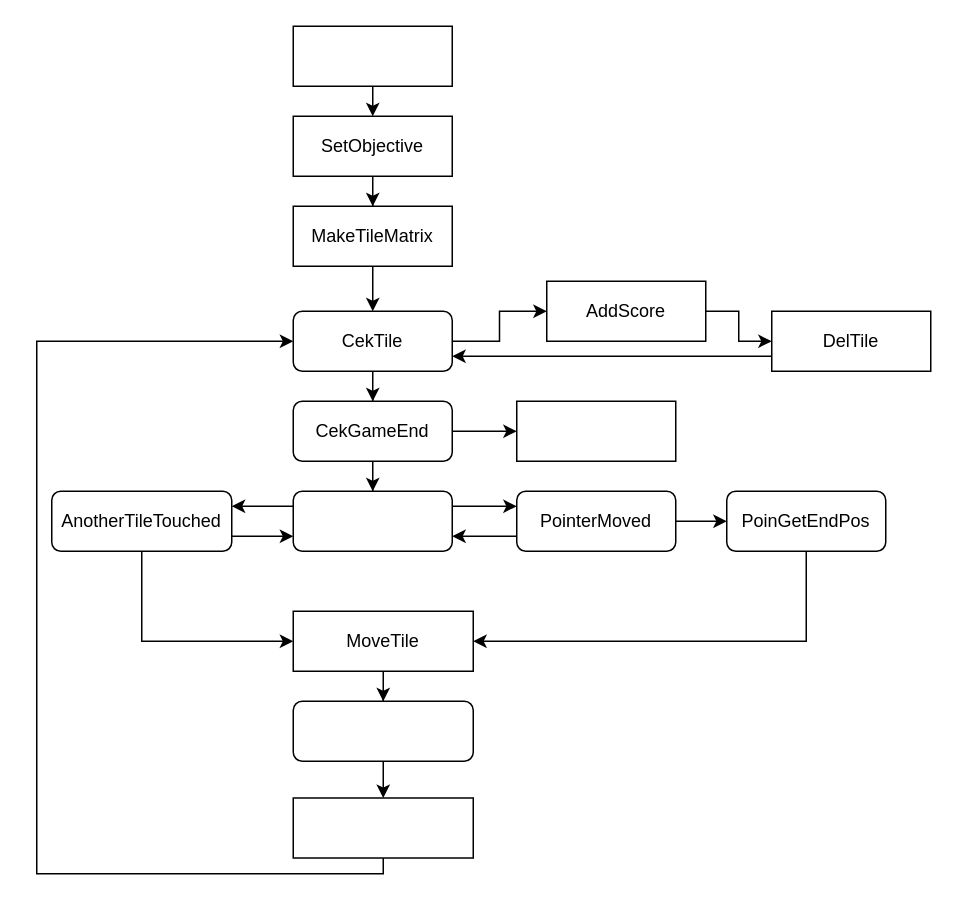
Some shapes in this 957 by 912 pixel diagram are drawn without their labels. The centre of each missing label's shape, as x and y in pixels:
GameStart: (372,55)
GetPointerTouch: (372,520)
ShowWinPanel: (595,430)
SwapTile: (382,827)
TileMovable: (382,730)
